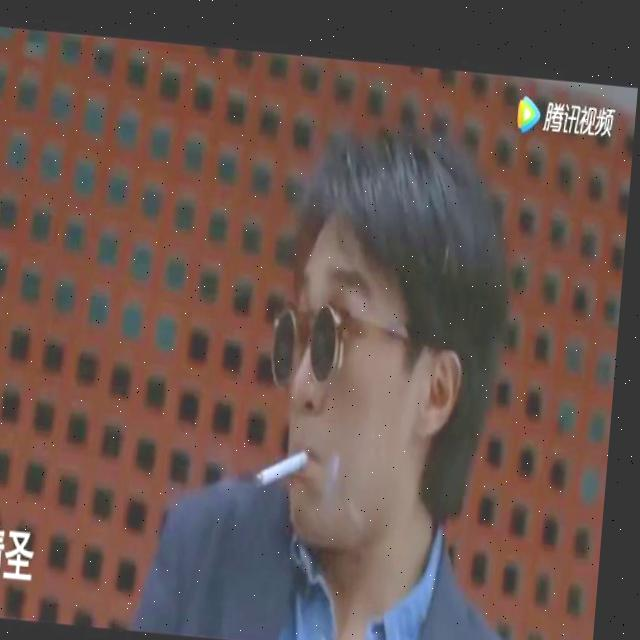cigarette: (261, 442, 311, 484)
